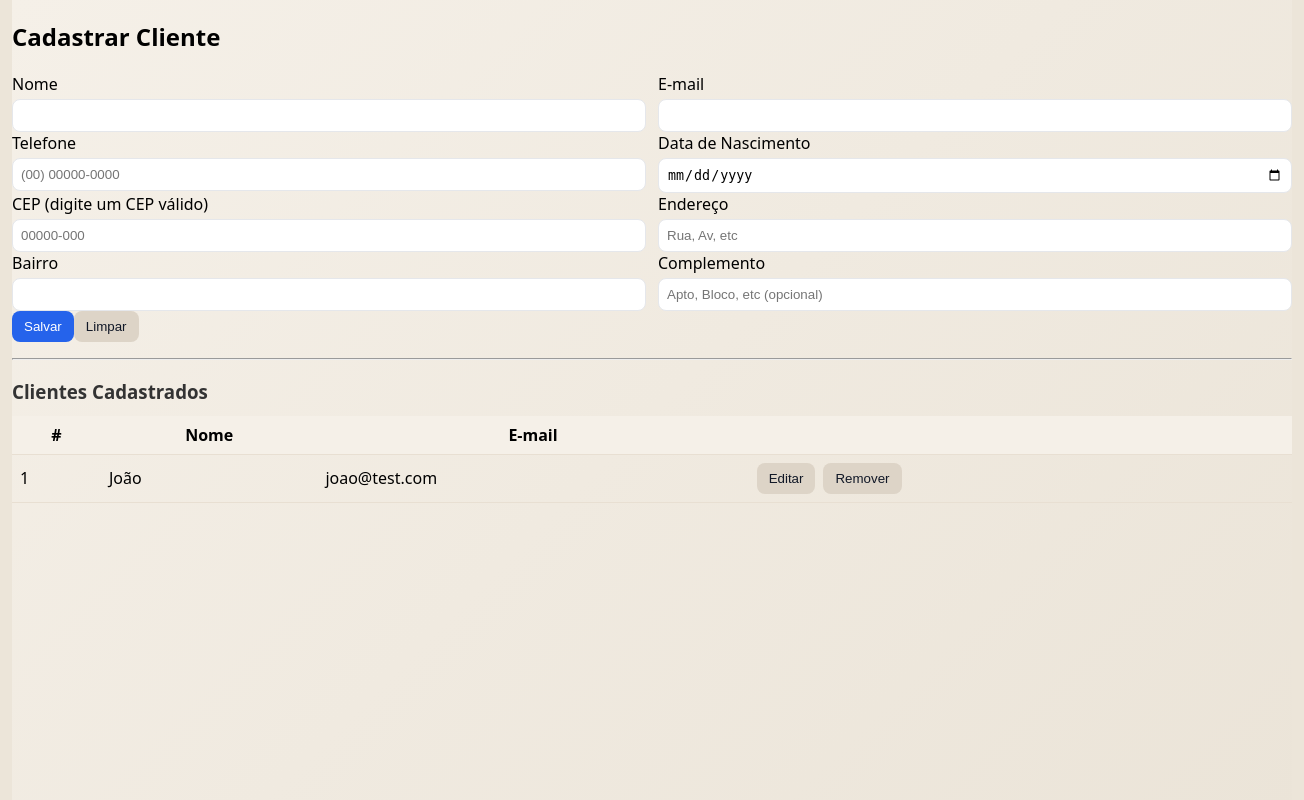
Scenario: Clientes.vue › cancela edição ao clicar em Cancelar
The image size is (1304, 800).
Step 1. Click the button "Editar" → [786, 478], box [757, 463, 815, 494]
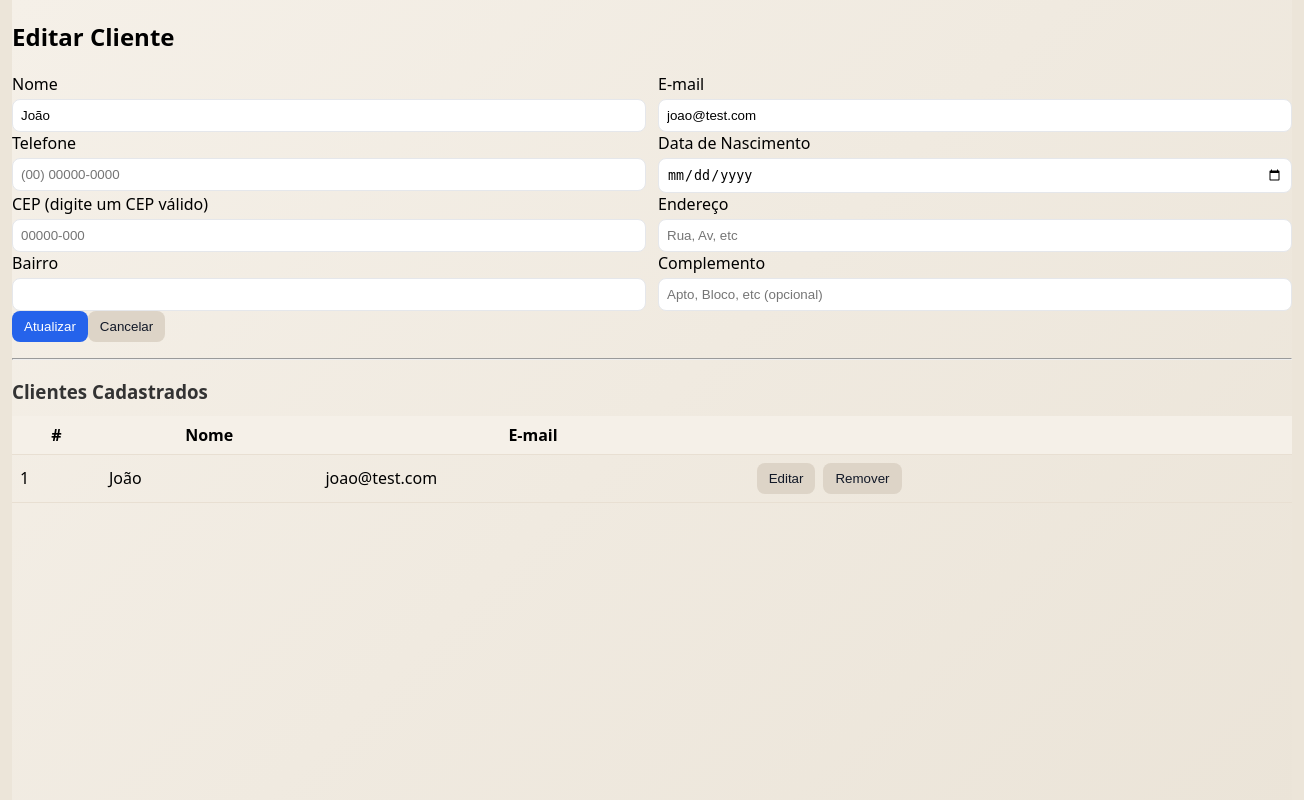
Expected: the heading "Editar Cliente" is shown, [12, 20, 174, 53]
Step 2. Click the button "Cancelar" → [127, 327], box [88, 311, 165, 342]
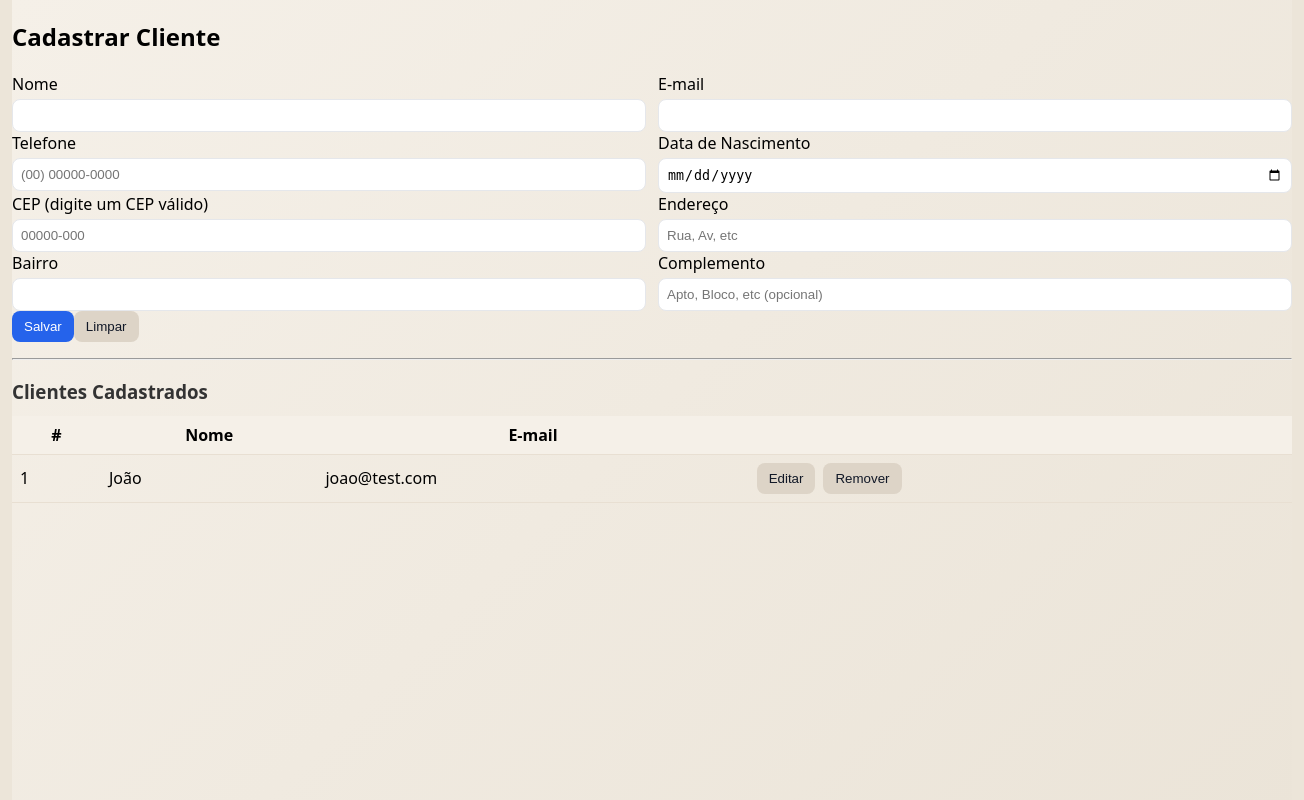
Expected: the heading "Cadastrar Cliente" is shown, [12, 20, 220, 53]
Expected: the field labelled "Nome" is empty, [12, 99, 646, 132]
